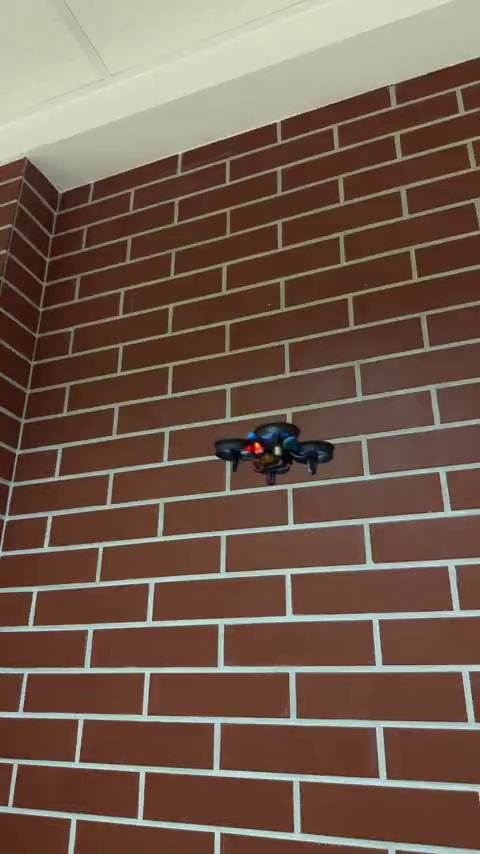drone: (214, 423, 334, 485)
